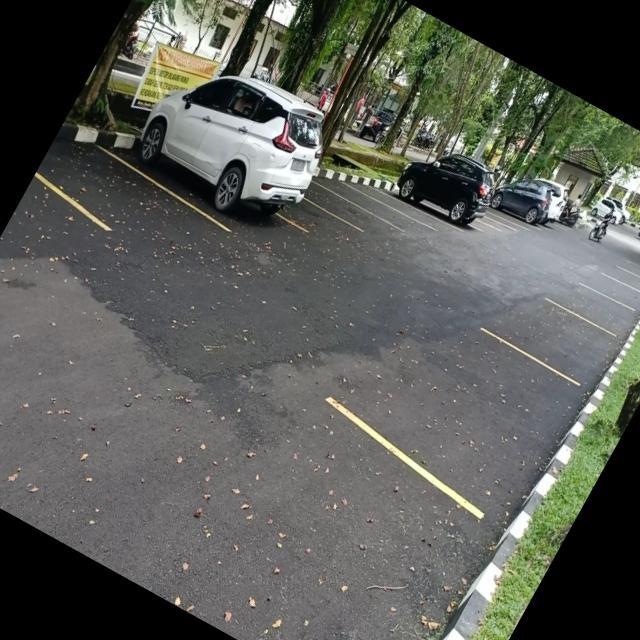empty: (385, 314, 587, 525), (35, 130, 226, 278), (500, 288, 617, 392)
occupied: (118, 74, 324, 253)
